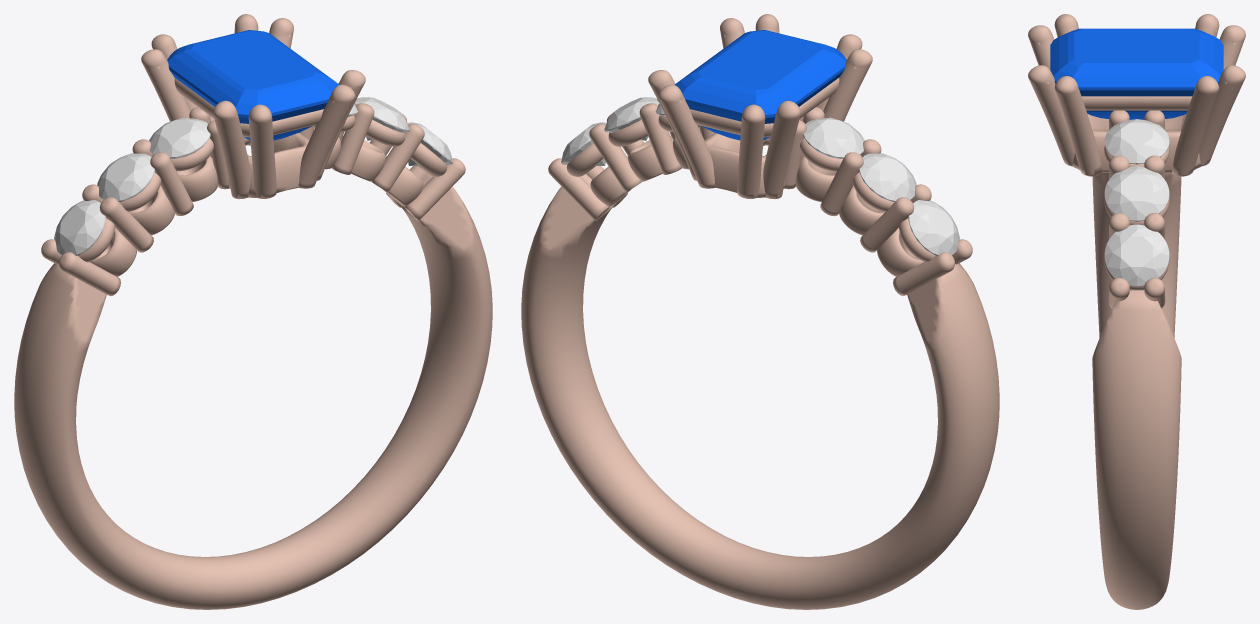
The model's file is bluesapphire-emerald-rosegold-8prong-taperedband-7stone.glb.
3 views of the same model, side by side, from view 1: azimuth 30°, elevation 25°; view 2: azimuth 150°, elevation 25°; view 3: azimuth 270°, elevation 25° (orthographic).
Parts seen in each view (by area): view 1: metal.001, stone, side, side.001, side.002, side.004, side.005; view 2: metal.001, stone, side, side.001, side.002, side.004, side.005; view 3: metal.001, stone, side.005, side.004, side.003.
Boxes of the visible parts, left/top/right/bottom form: metal.001: left=14, top=14, right=492, bottom=609; stone: left=167, top=30, right=339, bottom=140; side: left=54, top=200, right=105, bottom=255; side.001: left=97, top=153, right=154, bottom=201; side.002: left=149, top=117, right=210, bottom=158; side.004: left=354, top=97, right=409, bottom=140; side.005: left=407, top=122, right=452, bottom=165; metal.001: left=521, top=14, right=999, bottom=609; stone: left=674, top=30, right=846, bottom=140; side: left=908, top=200, right=959, bottom=255; side.001: left=859, top=153, right=916, bottom=201; side.002: left=803, top=117, right=864, bottom=158; side.004: left=604, top=97, right=659, bottom=140; side.005: left=561, top=122, right=606, bottom=165; metal.001: left=1028, top=14, right=1245, bottom=609; stone: left=1050, top=28, right=1223, bottom=119; side.005: left=1104, top=224, right=1169, bottom=286; side.004: left=1104, top=166, right=1169, bottom=221; side.003: left=1104, top=119, right=1169, bottom=164.
Bounding box in the file's own units: 20.49 × 22.94 × 8.4.
